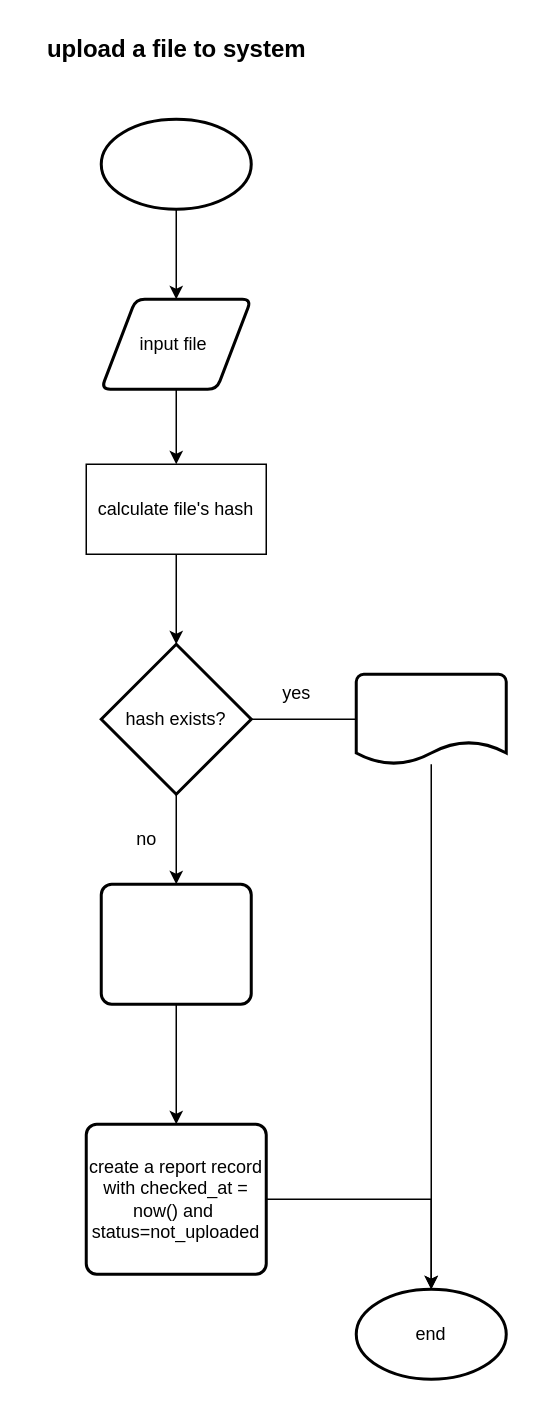
This 533x1406 diagram has some shape labels left out. The box of each missing label's shape, as (x1, y1, x2, y2) in pixels:
return results: (354, 672, 507, 765)
save file to DB: (99, 882, 252, 1005)
start: (99, 117, 252, 210)
